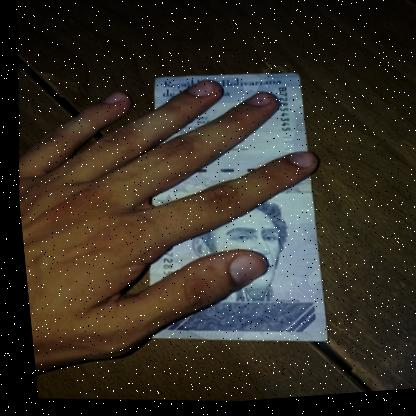vef_front: (124, 65, 344, 356)
